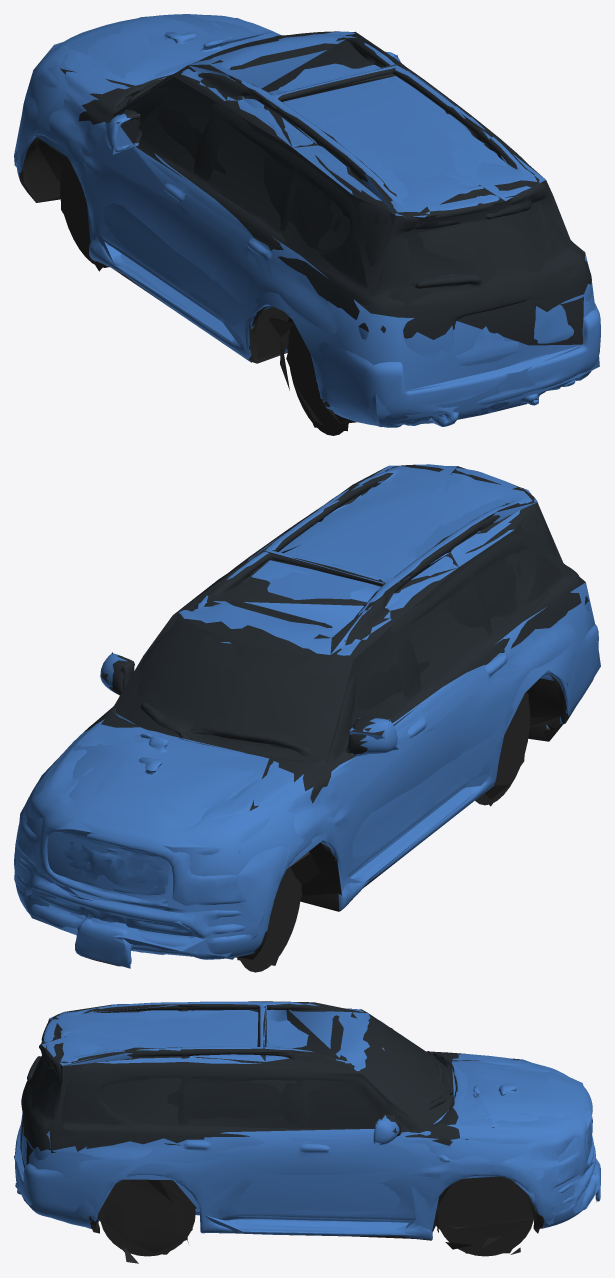
File: infiniti-qx56.glb
3 renders of one model, top to bottom at view 1: azimuth 30°, elevation 25°; view 2: azimuth 150°, elevation 25°; view 3: azimuth 270°, elevation 25°, orthographic. The views are drawn at different scales.
Visible parts, largest first — view 1: body, far; view 2: body, far; view 3: body, far.
Boxes of the visible parts, x1,y1,x2,y2 form: body: (16,14,600,435); far: (14,15,599,431); body: (14,464,598,972); far: (14,465,600,968); body: (14,1001,600,1256); far: (14,1001,600,1263).
Bounding box in the file's own units: 2.27 × 2.04 × 5.37.
